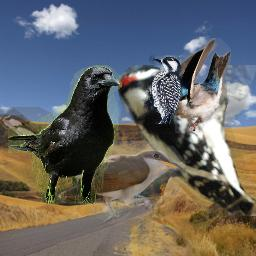Crow: (8, 65, 122, 204)
Cuckoo: (0, 107, 186, 226)
Swallow: (160, 38, 231, 133)
Woodpecker: (118, 65, 256, 216), (144, 54, 183, 124)
